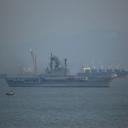Portanaves: (6, 51, 120, 91)
